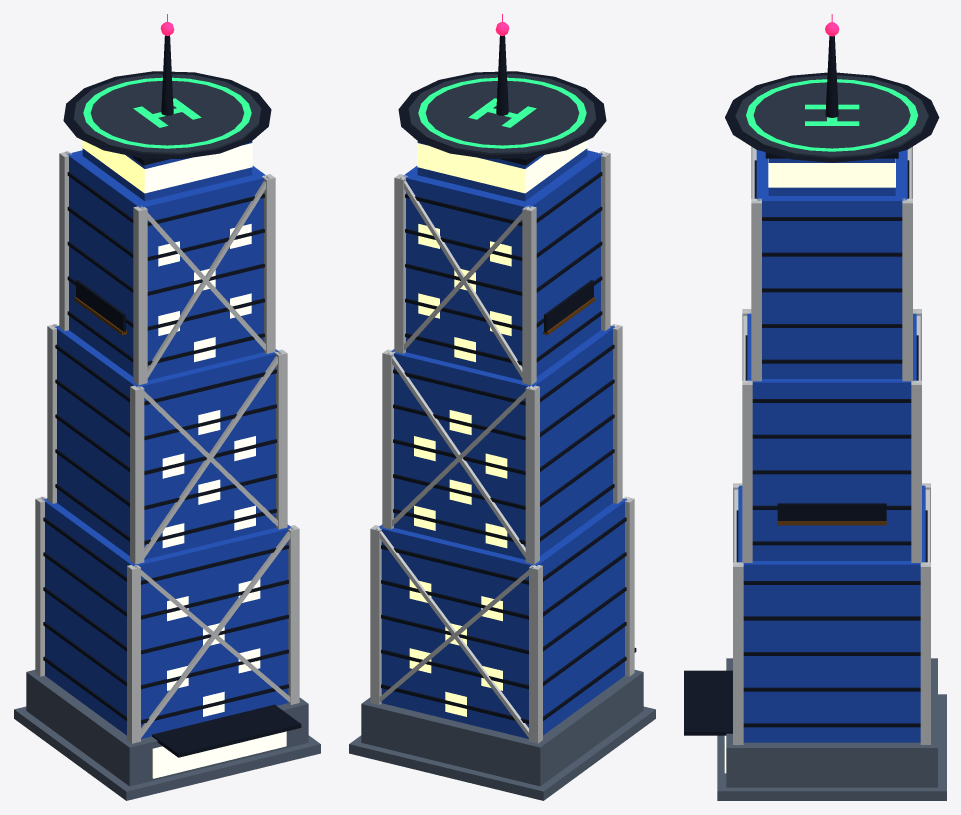
Rendered from futuristic_financial_tower.glb.
3 renders of one model, left to right at view 1: azimuth 30°, elevation 25°; view 2: azimuth 150°, elevation 25°; view 3: azimuth 270°, elevation 25°, orthographic. The views are drawn at different scales.
Visible parts, largest first — view 1: FuturisticFinancialTower_mat0, FuturisticFinancialTower_mat2, FuturisticFinancialTower_mat1; view 2: FuturisticFinancialTower_mat0, FuturisticFinancialTower_mat2, FuturisticFinancialTower_mat1; view 3: FuturisticFinancialTower_mat0, FuturisticFinancialTower_mat2, FuturisticFinancialTower_mat1.
Boxes of the visible parts, x1,y1,x2,y2 form: FuturisticFinancialTower_mat0: [14, 35, 320, 800]; FuturisticFinancialTower_mat2: [82, 140, 286, 778]; FuturisticFinancialTower_mat1: [83, 77, 251, 148]; FuturisticFinancialTower_mat0: [349, 35, 655, 800]; FuturisticFinancialTower_mat2: [409, 140, 587, 716]; FuturisticFinancialTower_mat1: [418, 77, 586, 148]; FuturisticFinancialTower_mat0: [684, 36, 946, 800]; FuturisticFinancialTower_mat2: [724, 159, 895, 773]; FuturisticFinancialTower_mat1: [746, 79, 918, 151].
Size of the model in its own units: 7.6 by 26.95 by 8.7.
